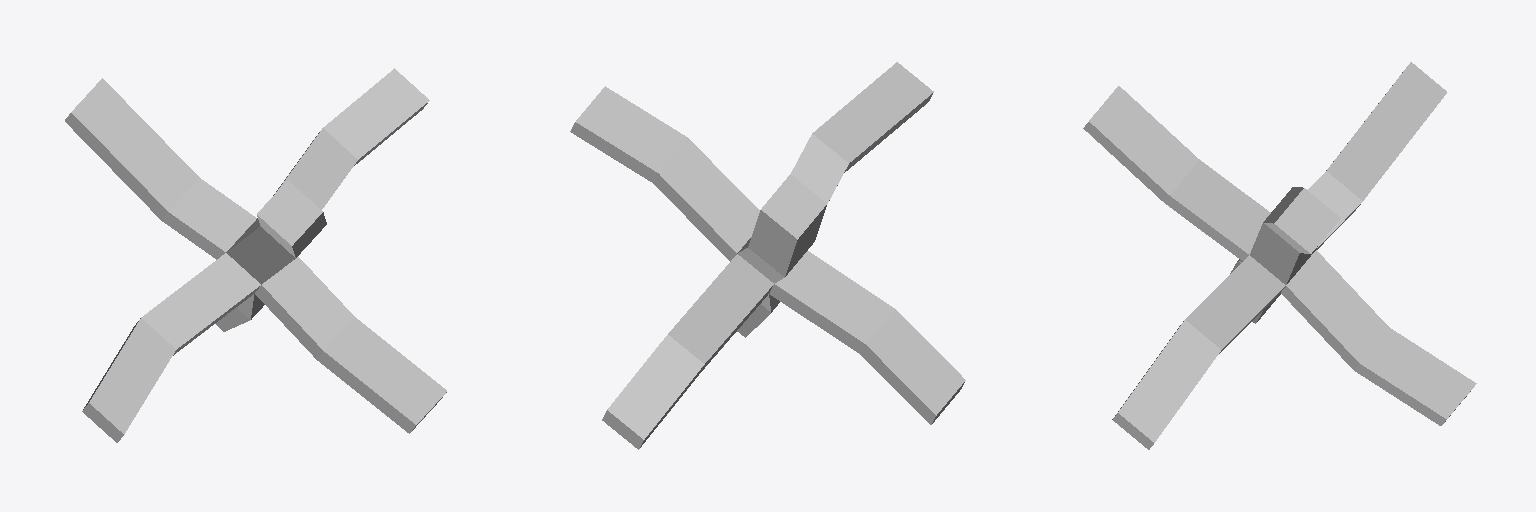
The model's file is Barrier_4.obj.
The picture shows the model from 3 angles: view 1: azimuth 30°, elevation 25°; view 2: azimuth 150°, elevation 25°; view 3: azimuth 270°, elevation 25°; orthographic projection.
Visible parts, largest first — view 1: Cube.001_Cube.000; view 2: Cube.001_Cube.000; view 3: Cube.001_Cube.000.
Boxes of the visible parts, box(x1,y1,x2,y2) form: Cube.001_Cube.000: box(65, 68, 446, 442); Cube.001_Cube.000: box(570, 62, 965, 449); Cube.001_Cube.000: box(1083, 62, 1476, 449).
Size of the model in its own units: 0.4768 by 0.3783 by 0.4454.